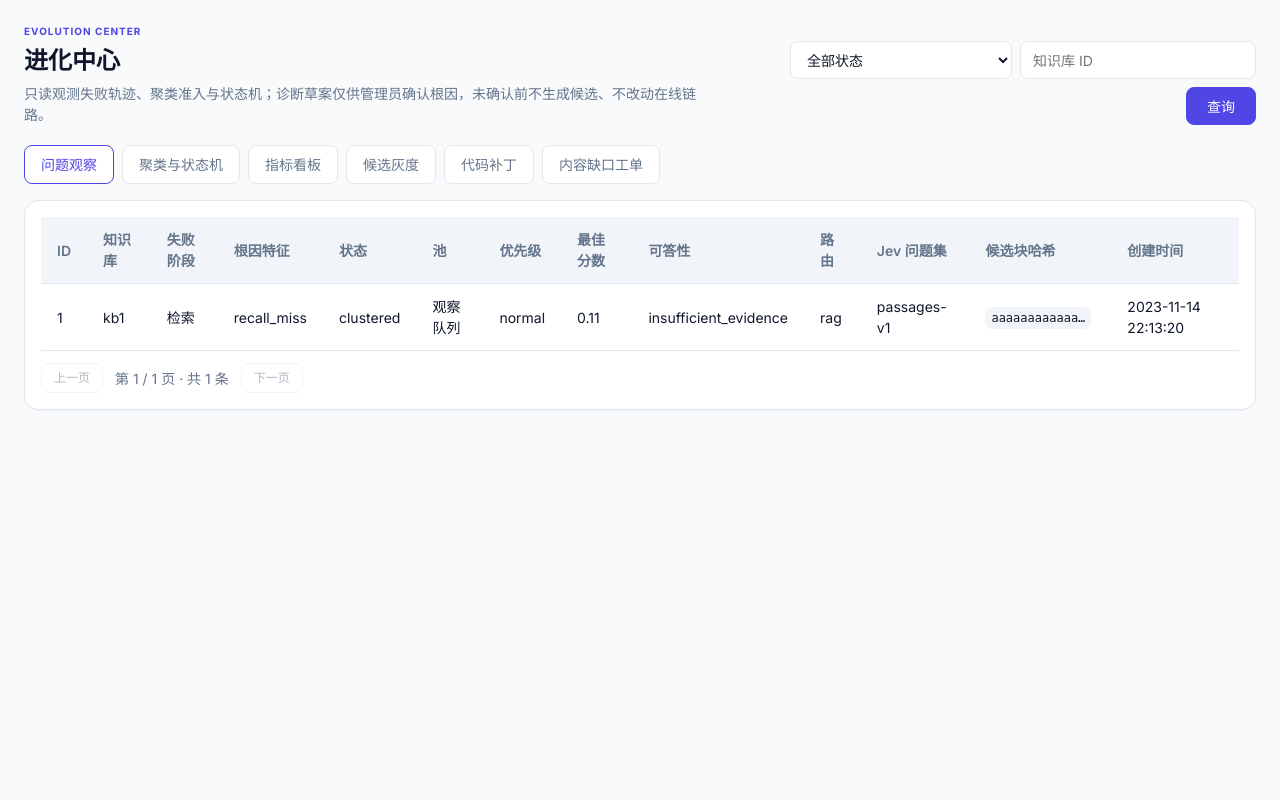
Test case: EvolutionCenterView › renders the state machine legend from the API reference
Click the button with test id "tab-clusters" at (181, 164), box [122,145,240,184]
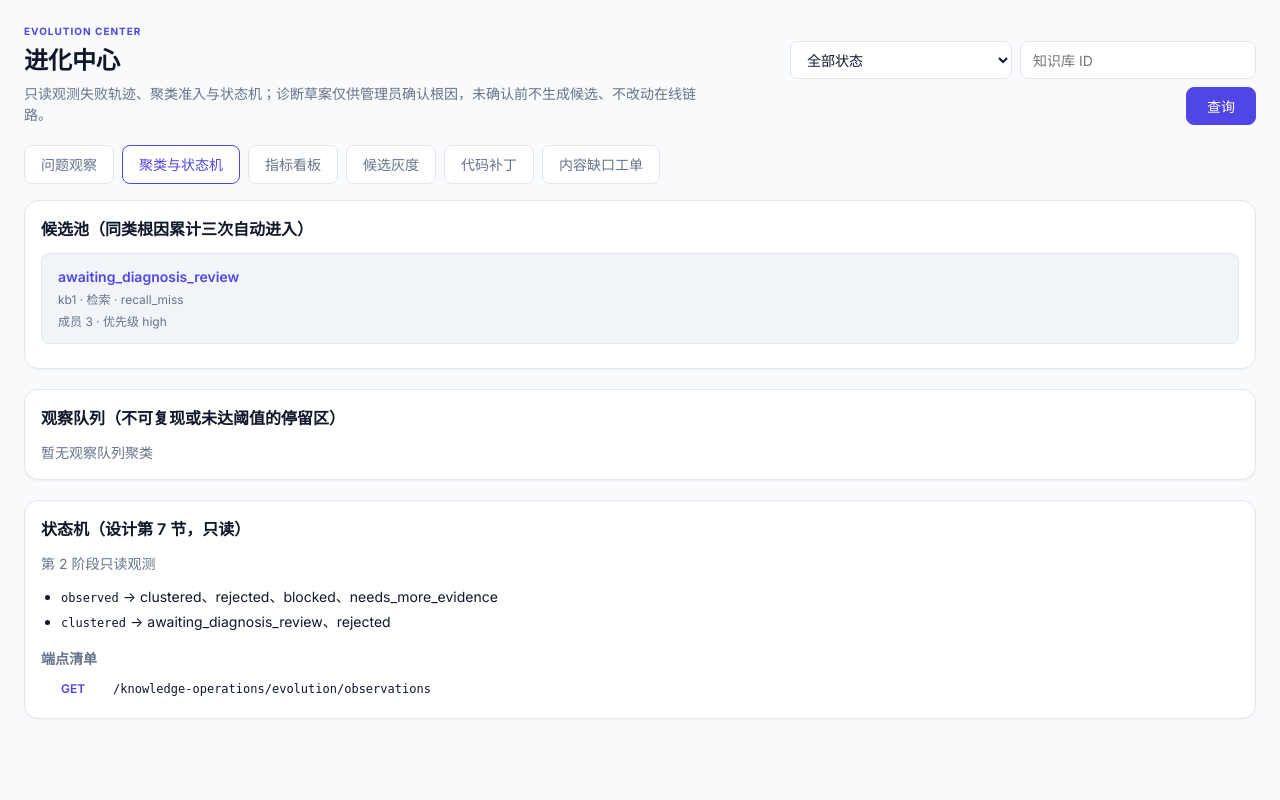
Now the element with test id "state-machine-legend" shows "observed", box [61,591,119,605]
Now the element with test id "state-machine-legend" shows "clustered", box [61,616,126,630]
Now the element with test id "state-machine-legend" shows "needs_more_evidence", box [140,588,498,605]
